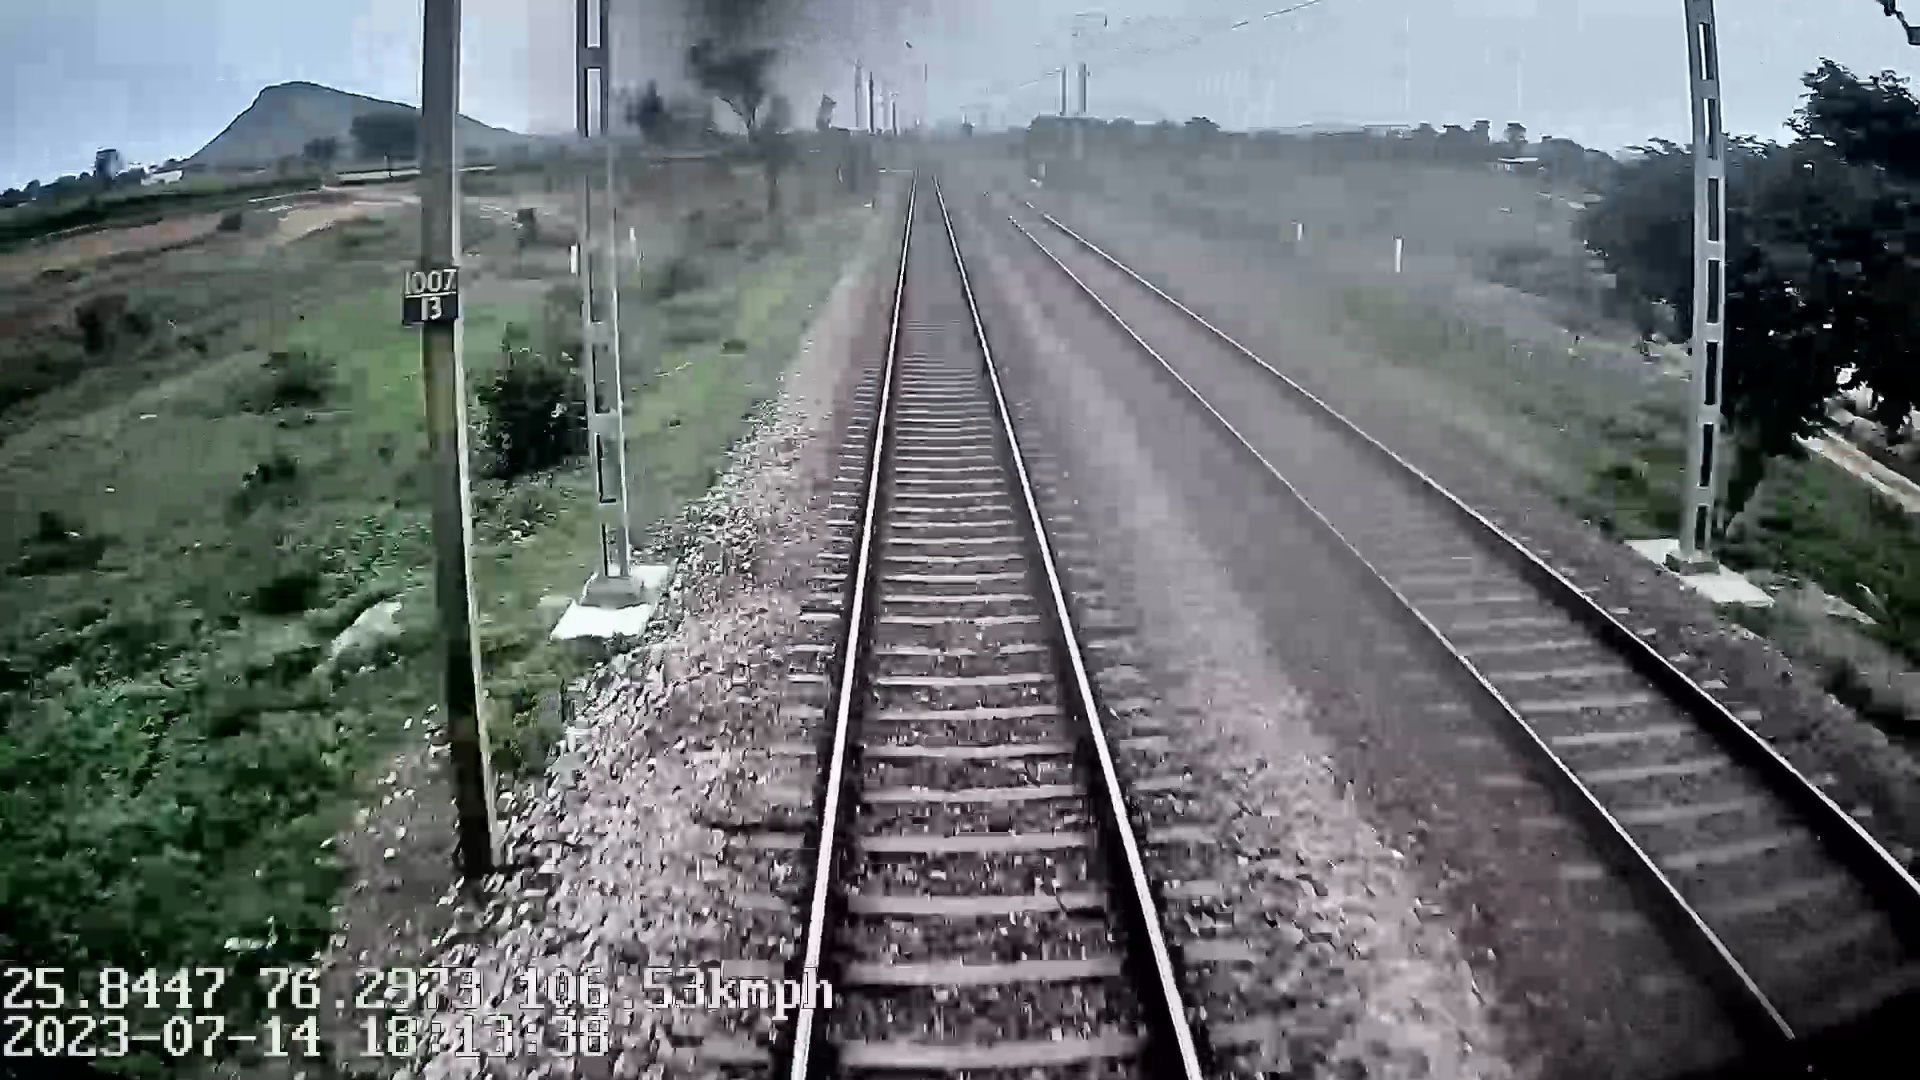track1: (798, 175, 1191, 1064)
track2: (1007, 214, 1915, 1018)
